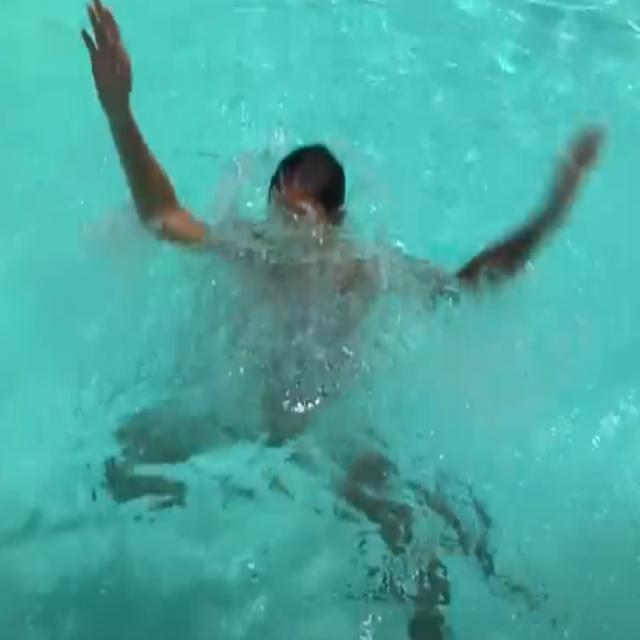Drowning: (58, 0, 621, 639)
